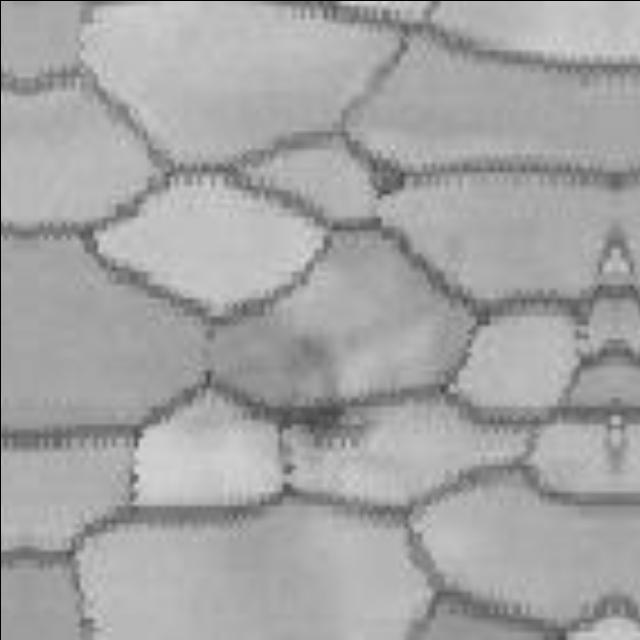good_void: (192, 334, 359, 456)
